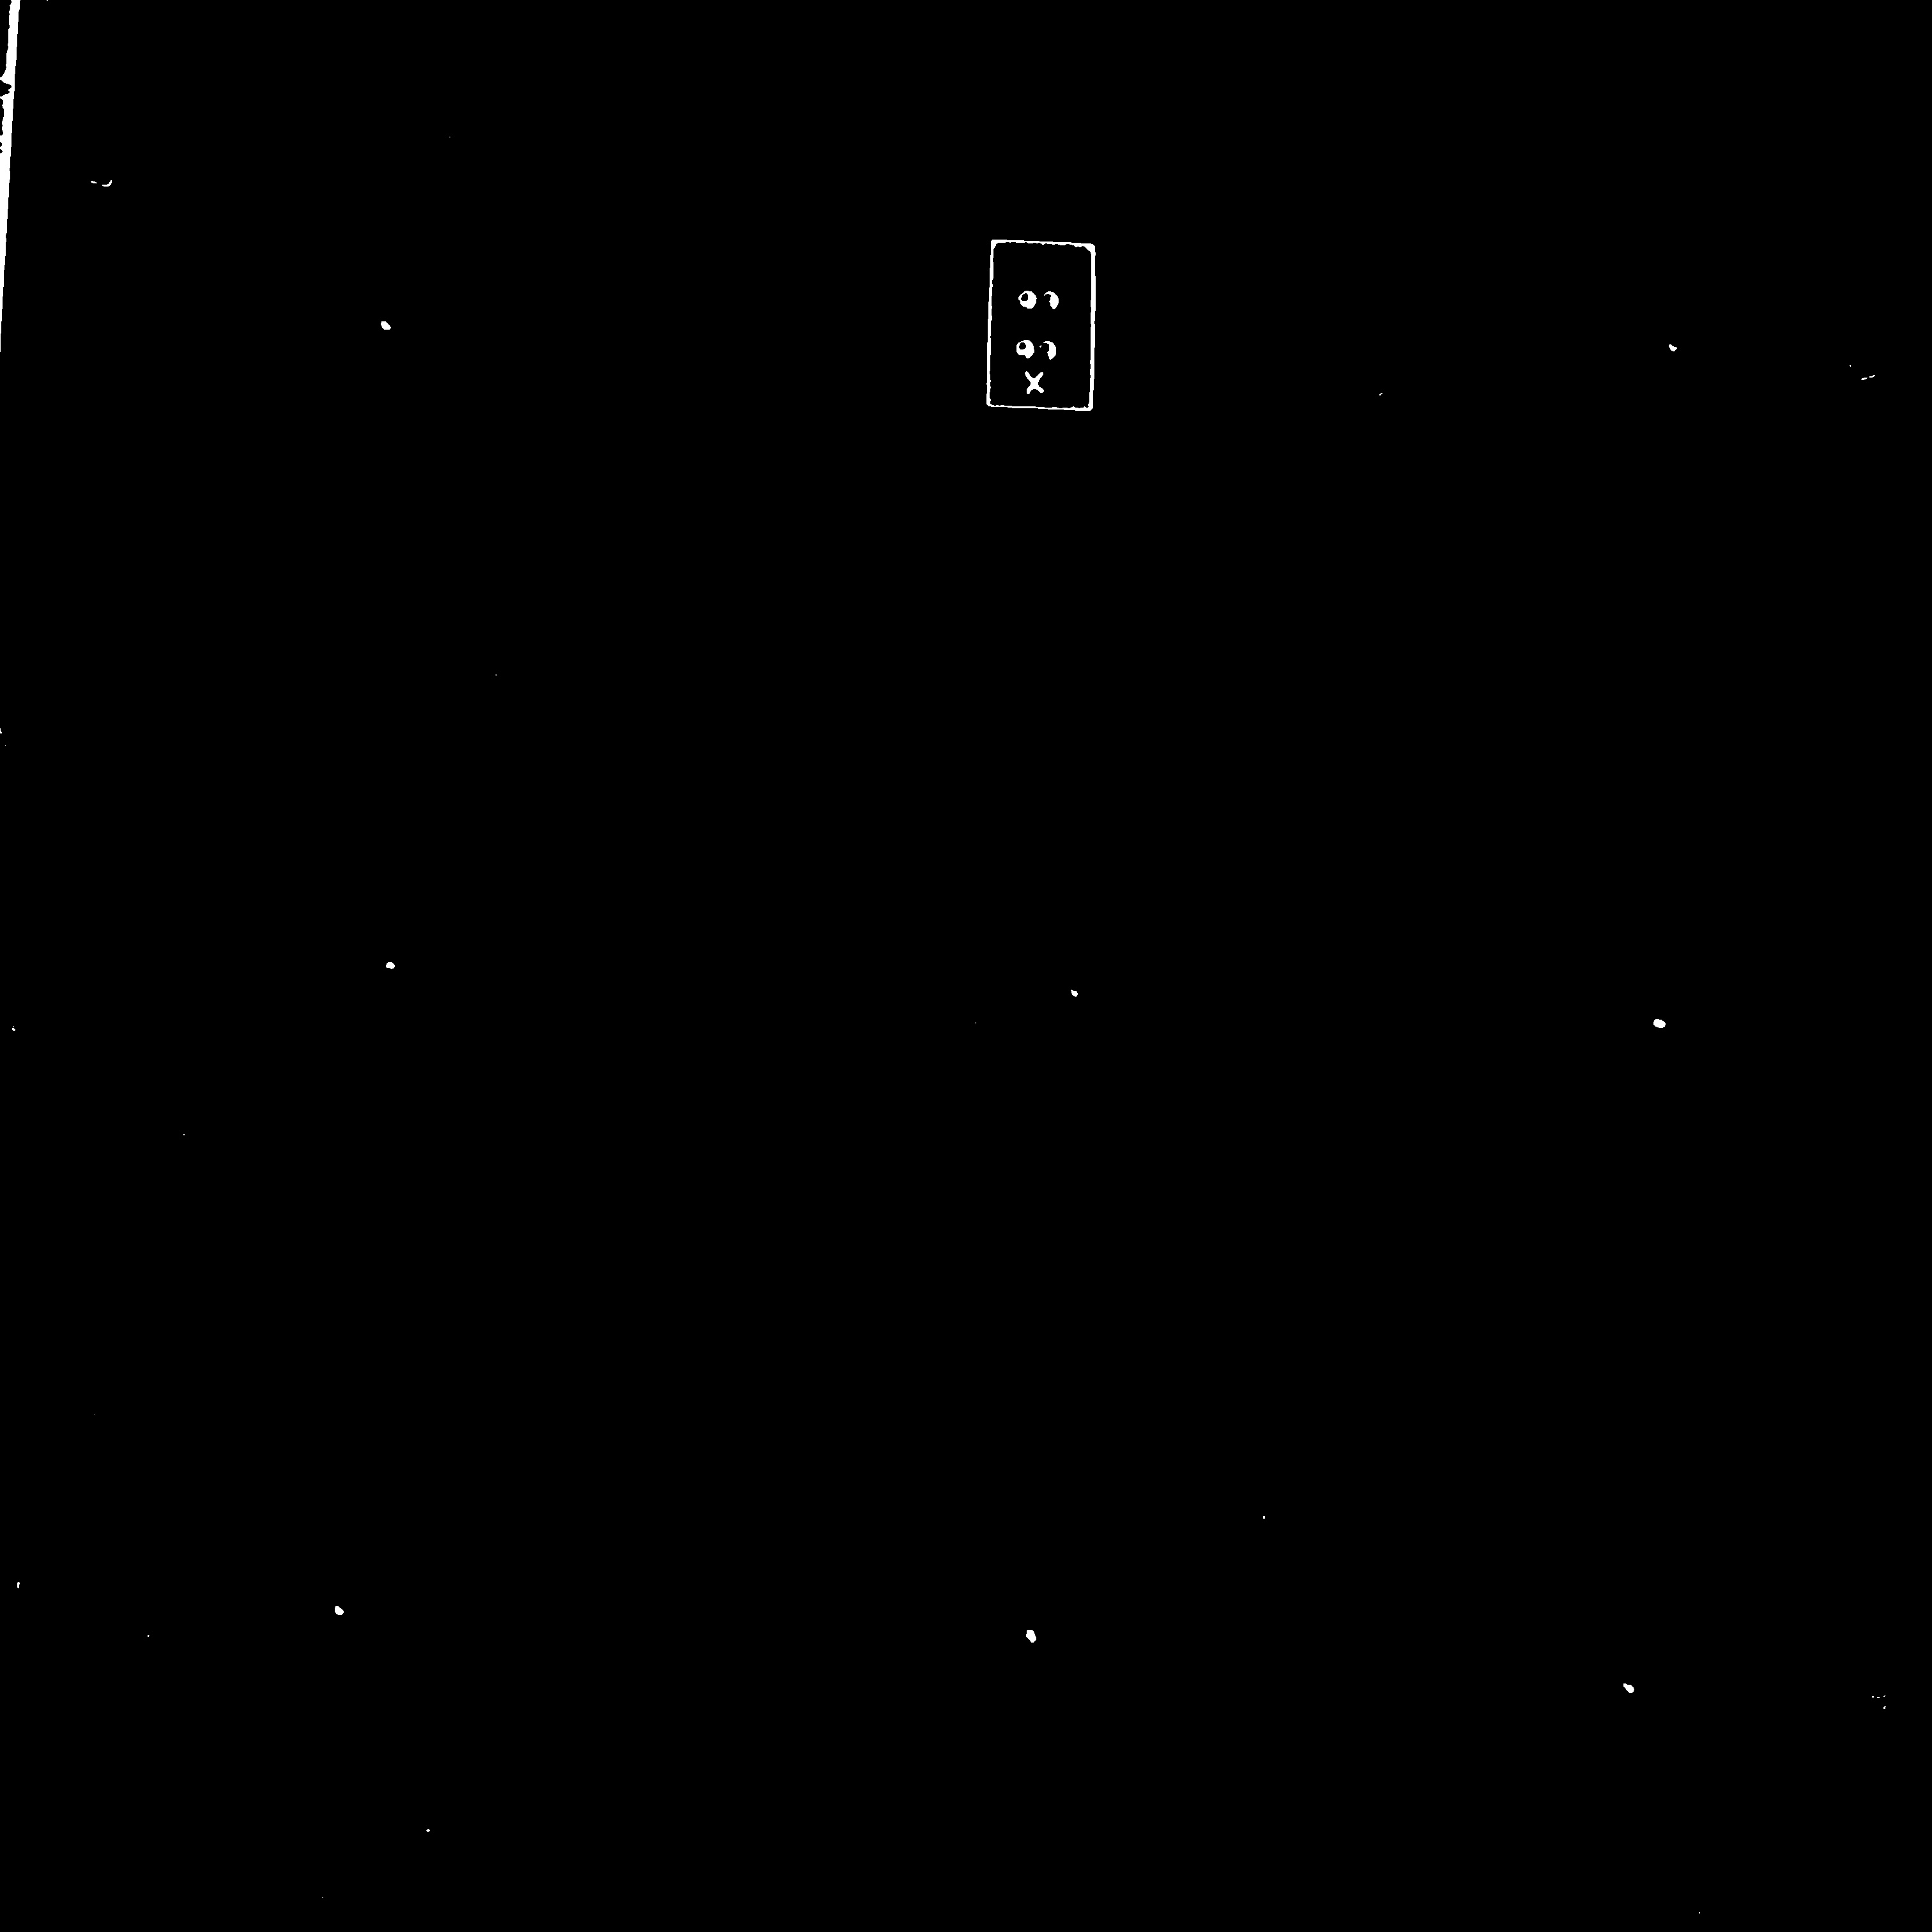x: (1005, 273, 1071, 365)
